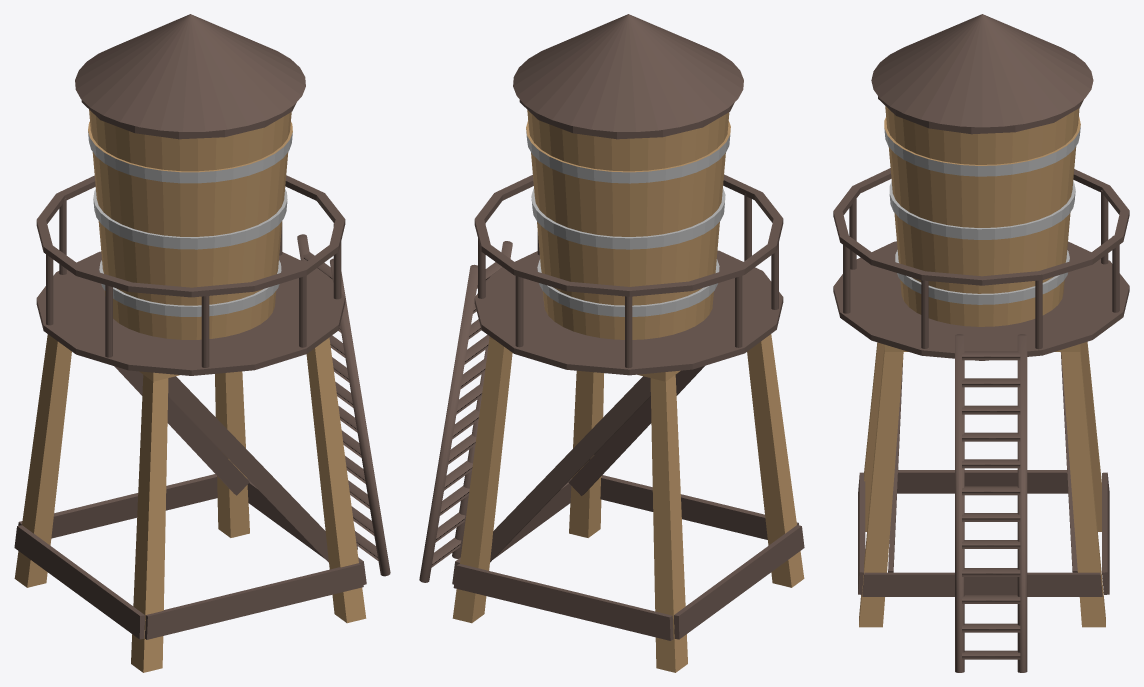
File: Silo.fbx
3 renders of one model, left to right at view 1: azimuth 30°, elevation 25°; view 2: azimuth 150°, elevation 25°; view 3: azimuth 270°, elevation 25°, orthographic. The views are drawn at different scales.
Parts seen in each view (by area): view 1: Cylinder.002; view 2: Cylinder.002; view 3: Cylinder.002.
Boxes of the visible parts, bbox=[...] form: Cylinder.002: bbox=[14, 14, 390, 672]; Cylinder.002: bbox=[419, 14, 804, 672]; Cylinder.002: bbox=[833, 14, 1129, 672].
Bounding box in the file's own units: 389 × 695 × 326.
